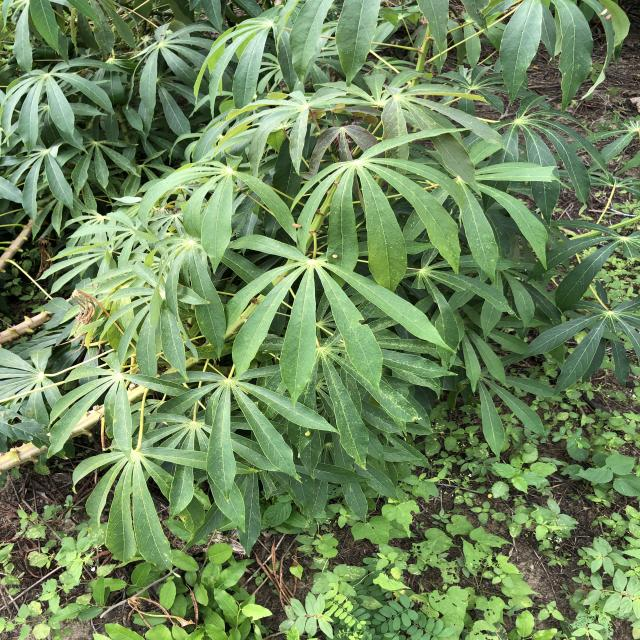Maleza: (344, 528, 640, 640), (160, 542, 419, 625)
Mosca: (594, 4, 617, 33), (325, 245, 346, 265), (300, 421, 317, 443), (286, 216, 300, 229)
